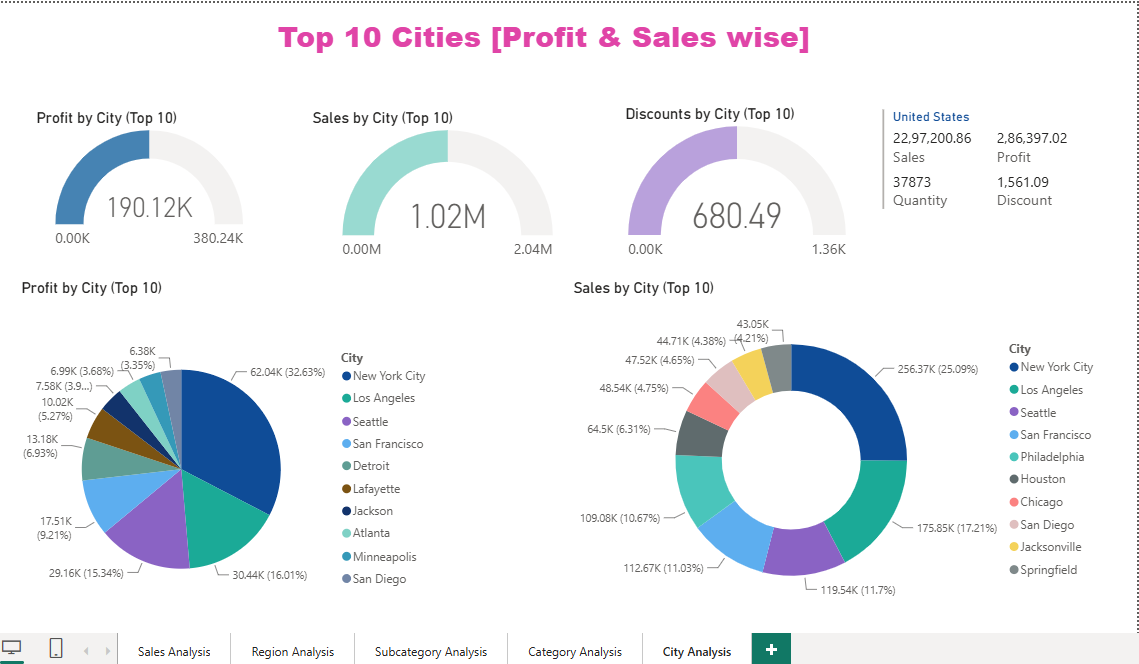

Layout of this report page (visuals, bound fields, positions):
{"tool":"powerbi","page":{"name":"City Analysis","canvas":[1280,720],"ordinal":4},"visuals":[{"type":"pieChart","title":"Profit by City (Top 10)","fields":{"Category":["Orders.City"],"Y":["Sum(Orders.Profit)"]},"box":[19.2,310.4,473.8,409.3],"z":0},{"type":"donutChart","title":"Sales by City (Top 10)","fields":{"Category":["Orders.City"],"Y":["Sum(Orders.Sales)"]},"box":[640,310.4,604.3,388.7],"z":1000},{"type":"multiRowCard","fields":{"Values":["Orders.Country","Sum(Orders.Sales)","Sum(Orders.Profit)","Sum(Orders.Quantity)","Sum(Orders.Discount)"]},"box":[988.1,115.1,255.4,168.4],"z":2000},{"type":"textbox","box":[58,9.3,1109.8,75.7],"z":3000},{"type":"gauge","title":"Profit by City (Top 10)","fields":{"Y":["Sum(Orders.Profit)"]},"box":[36.5,119.3,263.9,165.6],"z":4000},{"type":"gauge","title":"Sales by City (Top 10)","fields":{"Y":["Sum(Orders.Sales)"]},"box":[346.7,119.3,314.4,178.2],"z":5000},{"type":"gauge","title":"Discounts by City (Top 10)","fields":{"Y":["Sum(Orders.Discount)"]},"box":[698.9,115.1,261.1,182.5],"z":6000}]}

Visuals, with their boxes on the page's 1280x720 design canvas (x1, y1, x2, y2). These are canvas units, not pixel positions in the 1139x664 screenshot, which may show the page scaled, cropped or inside an application window:
"Profit by City (Top 10)" pieChart: <box>19,310,493,720</box>
"Sales by City (Top 10)" donutChart: <box>640,310,1244,699</box>
multiRowCard - Orders.Country x Sum(Orders.Sales): <box>988,115,1244,284</box>
textbox: <box>58,9,1168,85</box>
"Profit by City (Top 10)" gauge: <box>36,119,300,285</box>
"Sales by City (Top 10)" gauge: <box>347,119,661,298</box>
"Discounts by City (Top 10)" gauge: <box>699,115,960,298</box>
